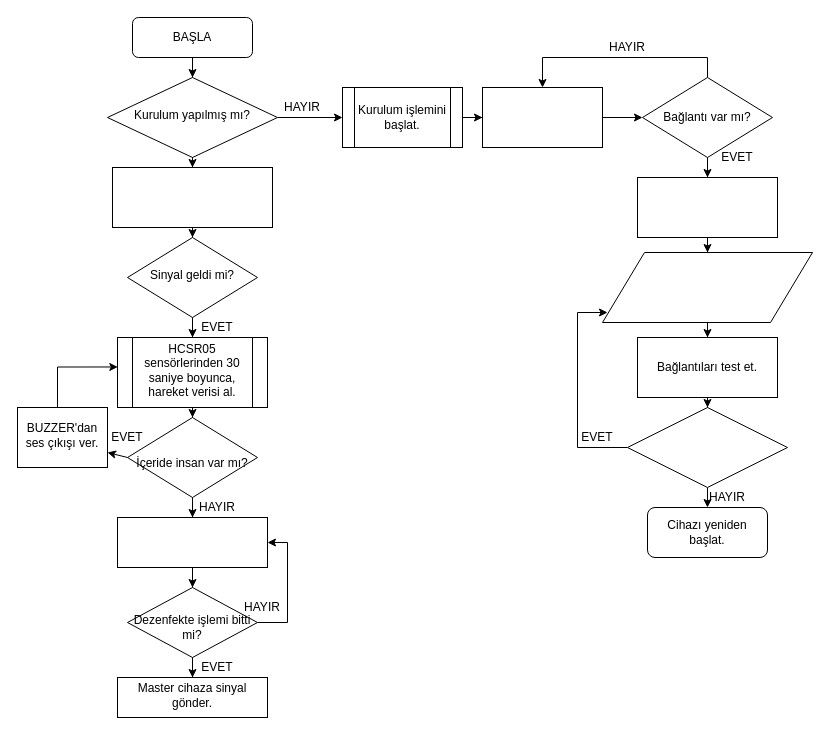
The diagram is 830 pixels wide and 735 high, and some of its shapes have lost their labels. The shapes that lost their labels are listed below. From the top down, each one's centre as x and y in pixels, then its label:
the point at 542,117: AP modunda çalış. Bağlantı bekle.
the point at 192,197: Master cihazdan sinyal bekleniyor...
the point at 707,207: Bağlanan kişiye formu otomatik aç.
the point at 707,287: Kablosuz ağ bilgileri ve bağlanılacak sunucu bilgilerini al.
the point at 707,447: Bağlantılarda problem var mı?
the point at 192,542: Röleleri tetikle, Dezenfekte motorlarını çalıştır.
